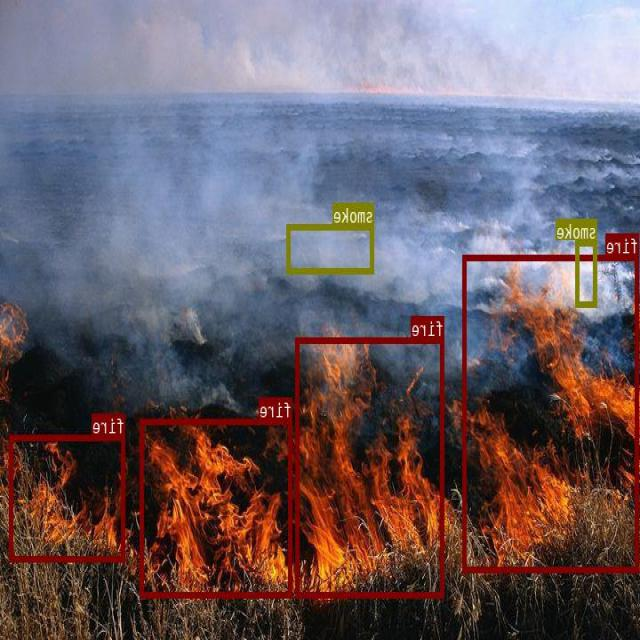fire: (464, 254, 639, 572), (296, 337, 445, 597), (141, 418, 293, 597), (10, 434, 126, 561)
smoke: (288, 224, 375, 272), (577, 239, 598, 306)
